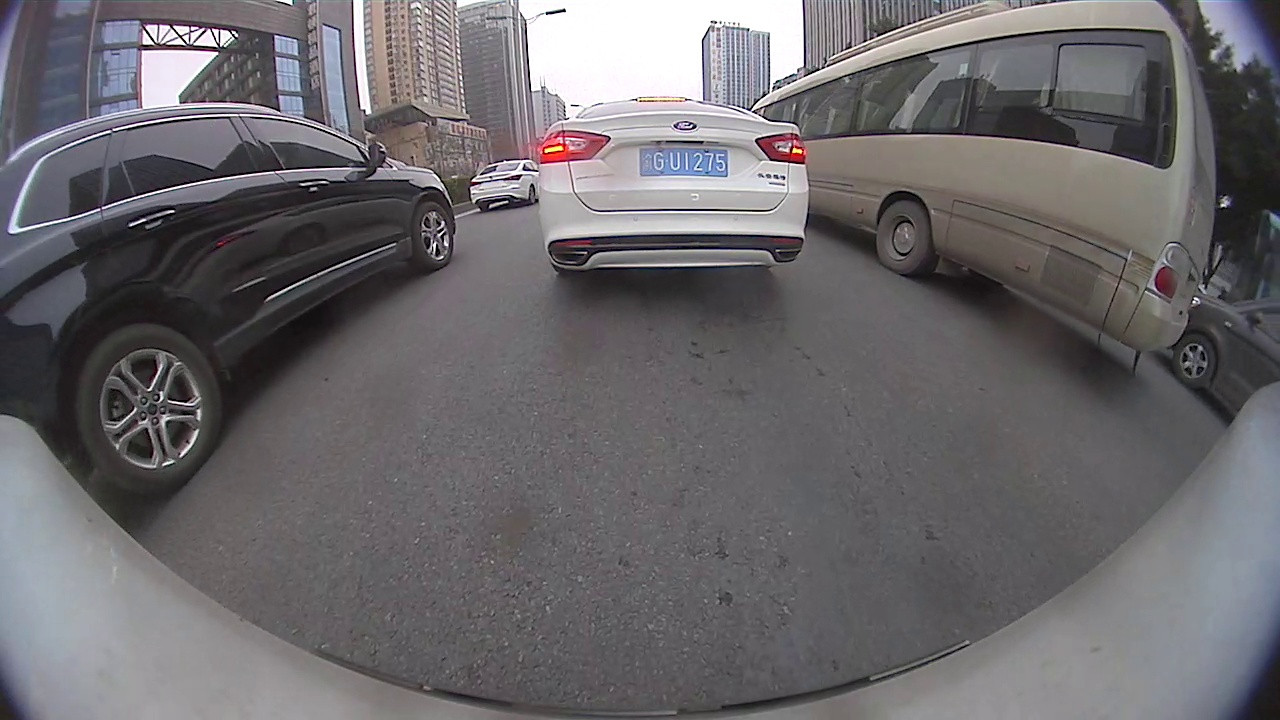bus: (747, 0, 1217, 355)
car: (0, 101, 459, 495), (540, 93, 811, 275), (1168, 292, 1278, 409), (468, 158, 539, 212)
front: (409, 200, 454, 272), (1172, 335, 1216, 387)
rear: (79, 326, 226, 492), (875, 200, 933, 275)
